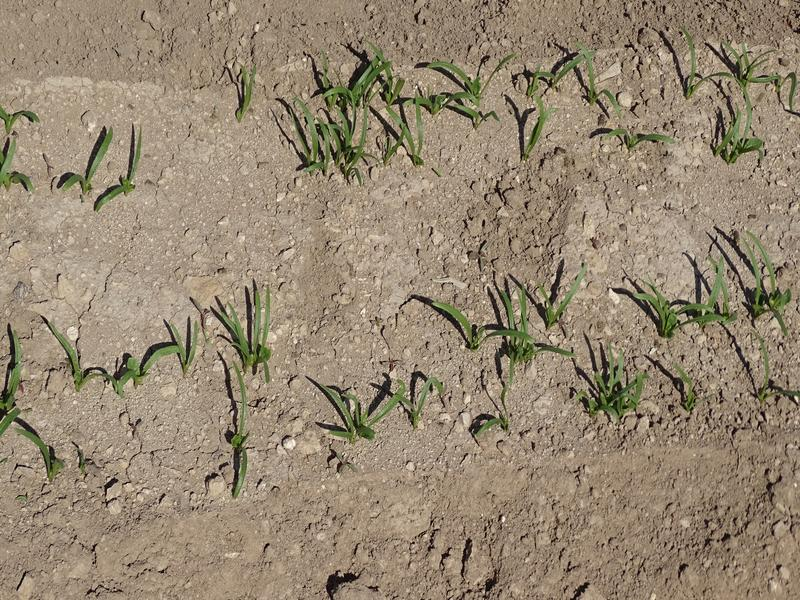Espinaca: (275, 45, 512, 187), (431, 268, 590, 366), (644, 242, 785, 340), (42, 320, 204, 392), (517, 47, 619, 161), (219, 306, 279, 490), (683, 28, 765, 158), (57, 109, 151, 206), (2, 328, 60, 477), (321, 370, 439, 439), (578, 347, 645, 416), (1, 103, 39, 192)
